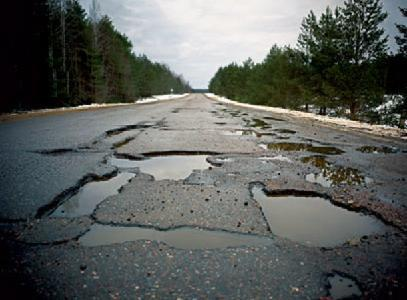Pothole: (33, 106, 394, 186), (249, 179, 402, 249), (81, 217, 271, 262), (38, 169, 136, 220), (311, 262, 405, 299)
